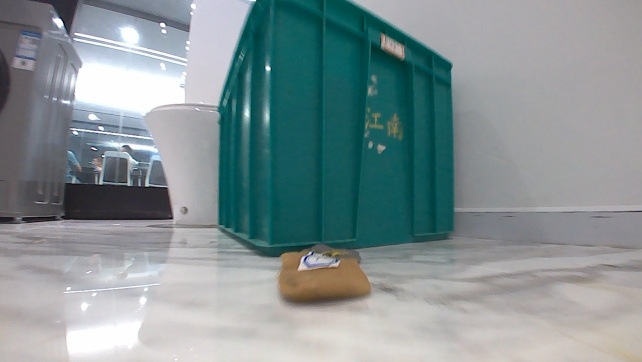socks: (275, 241, 372, 305)
toilet: (143, 101, 221, 229)
washing_machine: (0, 0, 85, 224)
